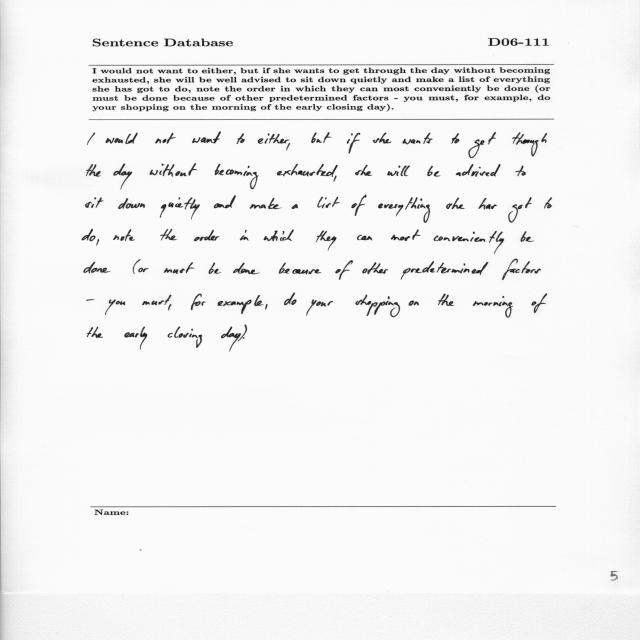word: (434, 231, 504, 254), (401, 262, 489, 280), (378, 197, 430, 223), (215, 164, 259, 189), (356, 295, 400, 318), (160, 198, 200, 220), (473, 296, 513, 318), (218, 295, 264, 314), (502, 259, 541, 280), (513, 133, 547, 157), (277, 164, 338, 177), (468, 132, 496, 158), (221, 325, 247, 352), (149, 163, 197, 177), (508, 197, 532, 223), (124, 327, 147, 350), (279, 263, 321, 275), (114, 164, 133, 190), (307, 299, 334, 316), (316, 231, 336, 252), (471, 164, 500, 177), (105, 133, 138, 144), (164, 262, 194, 274), (335, 260, 353, 280), (258, 133, 290, 144), (250, 198, 282, 209), (403, 133, 433, 144), (264, 230, 294, 241), (391, 230, 421, 241), (105, 299, 125, 315), (531, 293, 547, 313), (192, 132, 221, 143), (352, 195, 367, 216), (362, 262, 388, 274), (168, 326, 193, 338), (118, 198, 145, 209), (84, 262, 111, 273), (233, 263, 260, 274), (143, 295, 172, 305), (214, 196, 236, 209), (194, 230, 219, 241), (347, 133, 360, 154), (113, 230, 135, 242), (317, 197, 340, 208), (191, 294, 206, 310), (155, 133, 176, 144), (311, 132, 332, 143), (387, 166, 410, 176), (456, 164, 474, 176), (373, 133, 392, 144), (446, 198, 465, 209), (478, 198, 497, 209), (160, 229, 177, 241), (355, 165, 373, 176), (86, 197, 104, 208), (438, 294, 454, 306), (87, 164, 101, 177), (87, 327, 103, 338), (82, 229, 96, 241), (427, 166, 441, 177), (209, 262, 221, 274), (284, 293, 296, 305), (521, 231, 534, 242), (192, 335, 202, 348), (133, 259, 141, 274), (515, 166, 526, 176), (451, 133, 460, 144), (88, 133, 96, 145), (236, 134, 245, 144), (240, 230, 249, 240), (357, 235, 372, 241), (544, 198, 552, 209), (409, 300, 419, 306), (138, 268, 149, 272), (286, 143, 290, 151), (292, 204, 298, 209), (334, 175, 337, 182), (96, 239, 99, 246), (168, 304, 171, 311), (265, 304, 268, 310), (87, 299, 94, 301), (243, 337, 245, 339)
